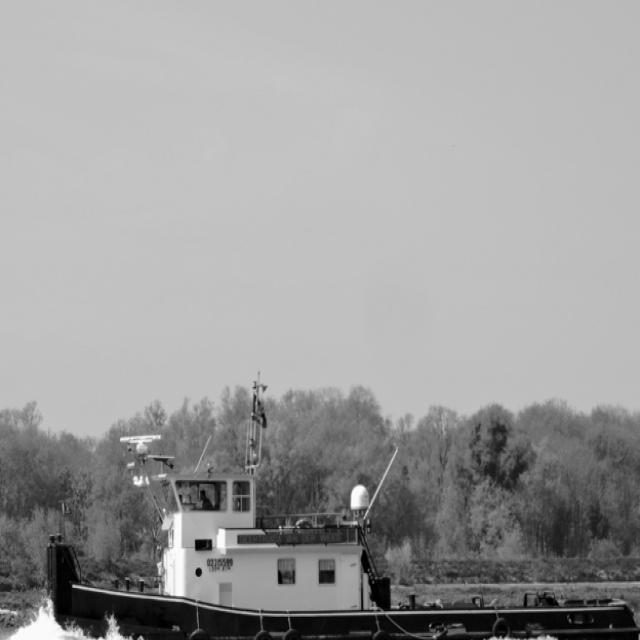tugboat: (41, 425, 640, 640)
